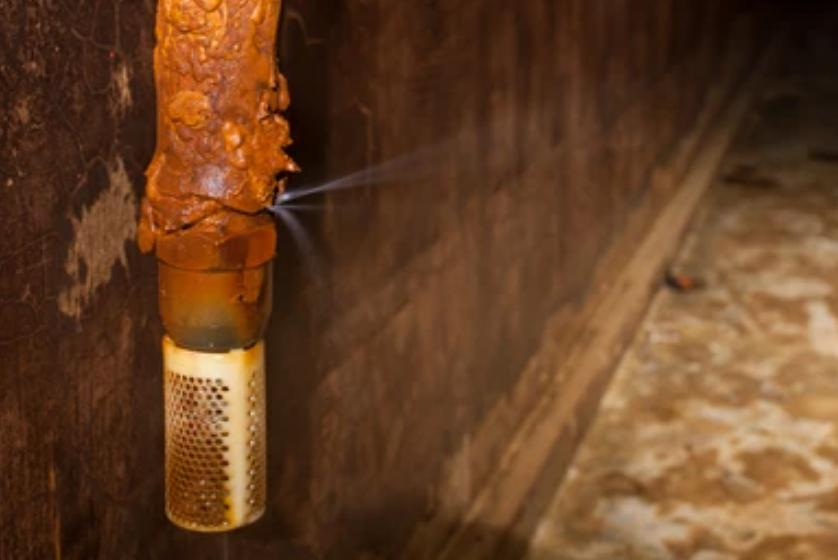pipe burst: (261, 145, 444, 278)
